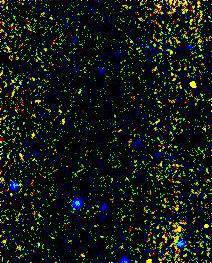star: (177, 71, 207, 101)
